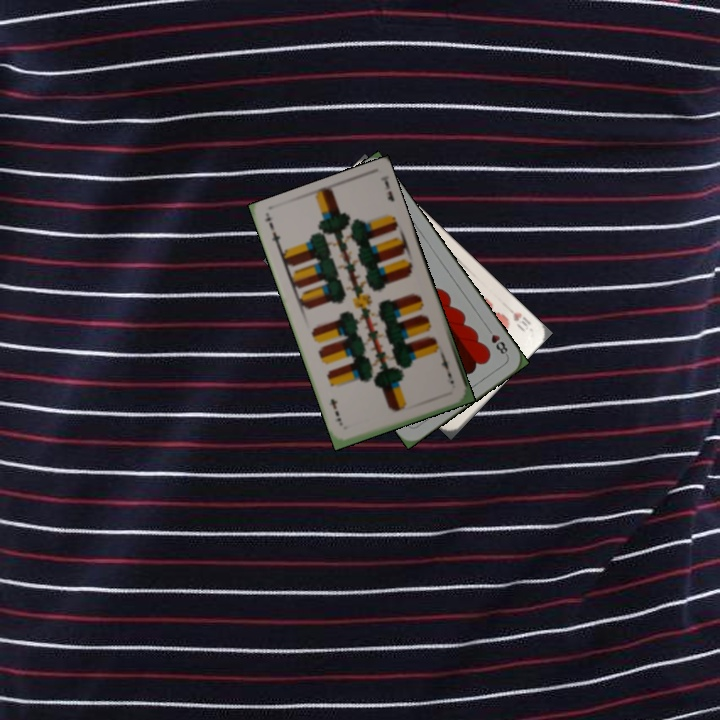E7: (437, 351, 456, 387), (265, 218, 284, 253)
H10: (509, 308, 533, 334)
H8: (482, 323, 511, 359)
